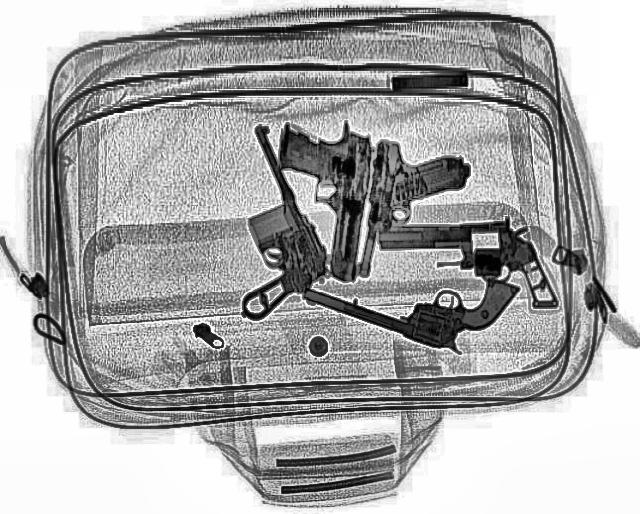Gun: (160, 121, 350, 321), (296, 222, 520, 361), (258, 113, 378, 283), (351, 136, 475, 286), (374, 216, 558, 312)
